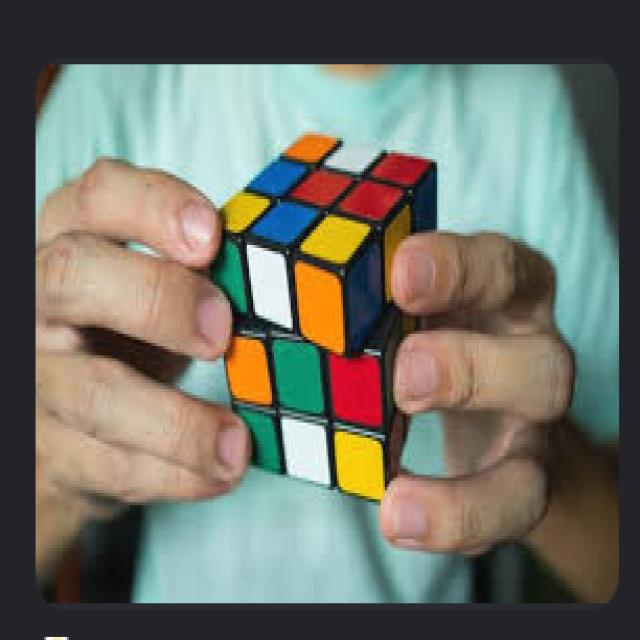Cubo-No-resuelto: (211, 135, 435, 499)
